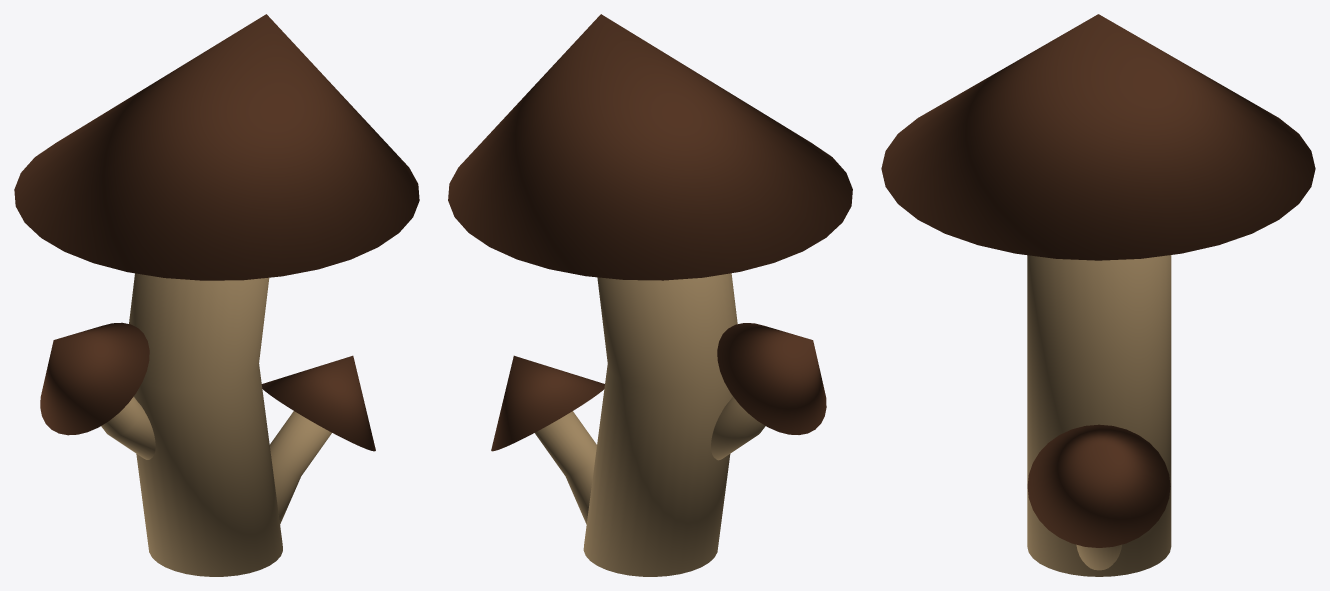
File: mushroom.fbx
3 views of the same model, side by side, from view 1: azimuth 30°, elevation 25°; view 2: azimuth 150°, elevation 25°; view 3: azimuth 270°, elevation 25° (orthographic). The views are drawn at different scales.
Visible parts, largest first — view 1: Cylinder.001; view 2: Cylinder.001; view 3: Cylinder.001.
Part boxes in pixels (x1=…): Cylinder.001: x1=14, y1=14, x2=419, y2=576; Cylinder.001: x1=448, y1=14, x2=852, y2=576; Cylinder.001: x1=881, y1=14, x2=1315, y2=576.
Size of the model in its own units: 21.34 by 30.38 by 21.34.
